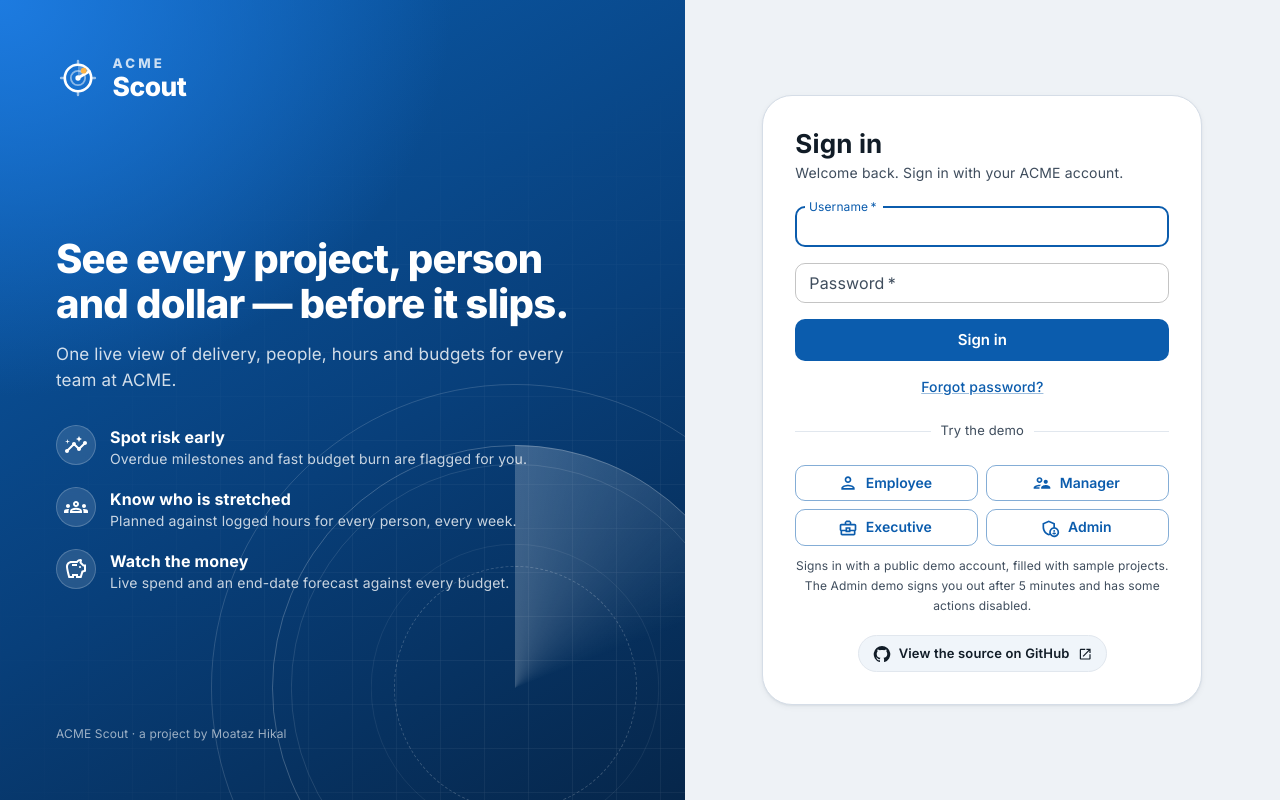
login › expired temp password message shown
The image size is (1280, 800).
Type "eli" into the field labelled "Username *" at {"x": 982, "y": 227}, box [795,207,1169,247]
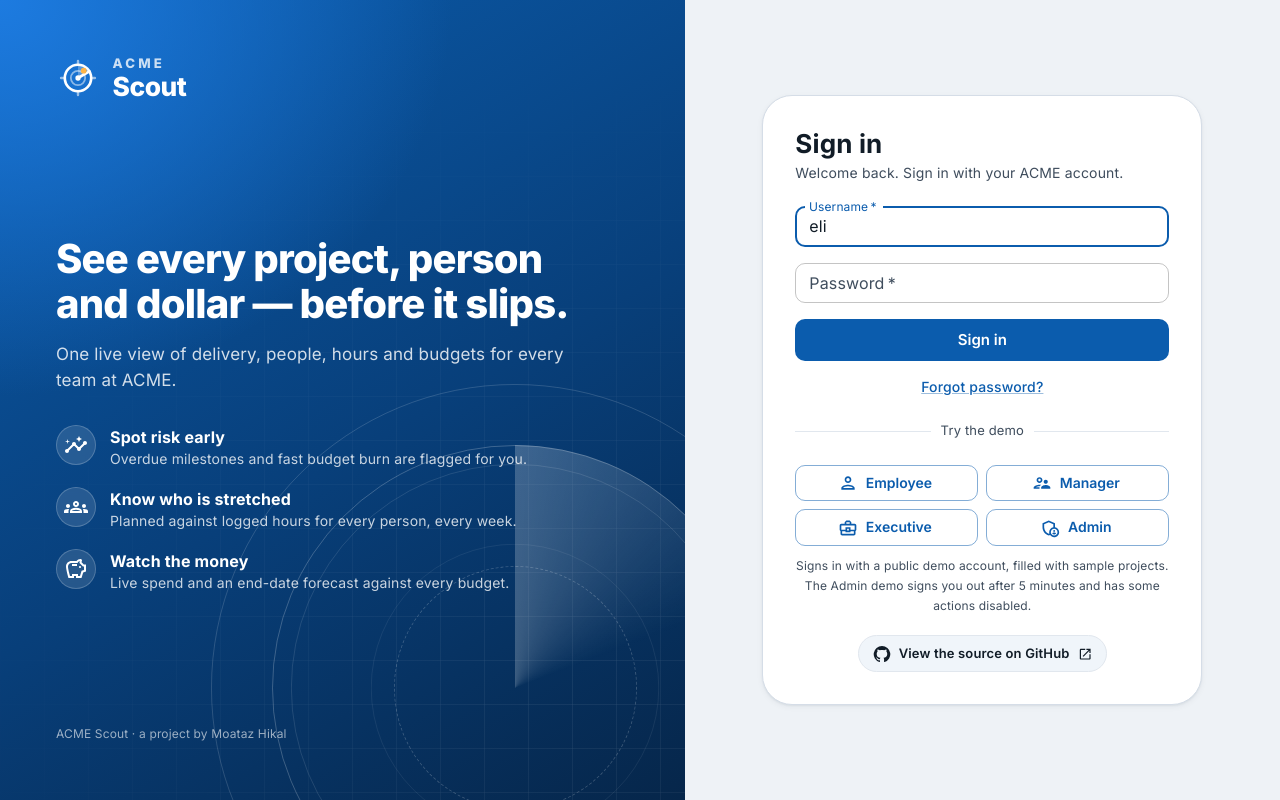
Type "Passw0rd!" into the password field labelled "Password *" at {"x": 982, "y": 283}, box [795,263,1169,303]
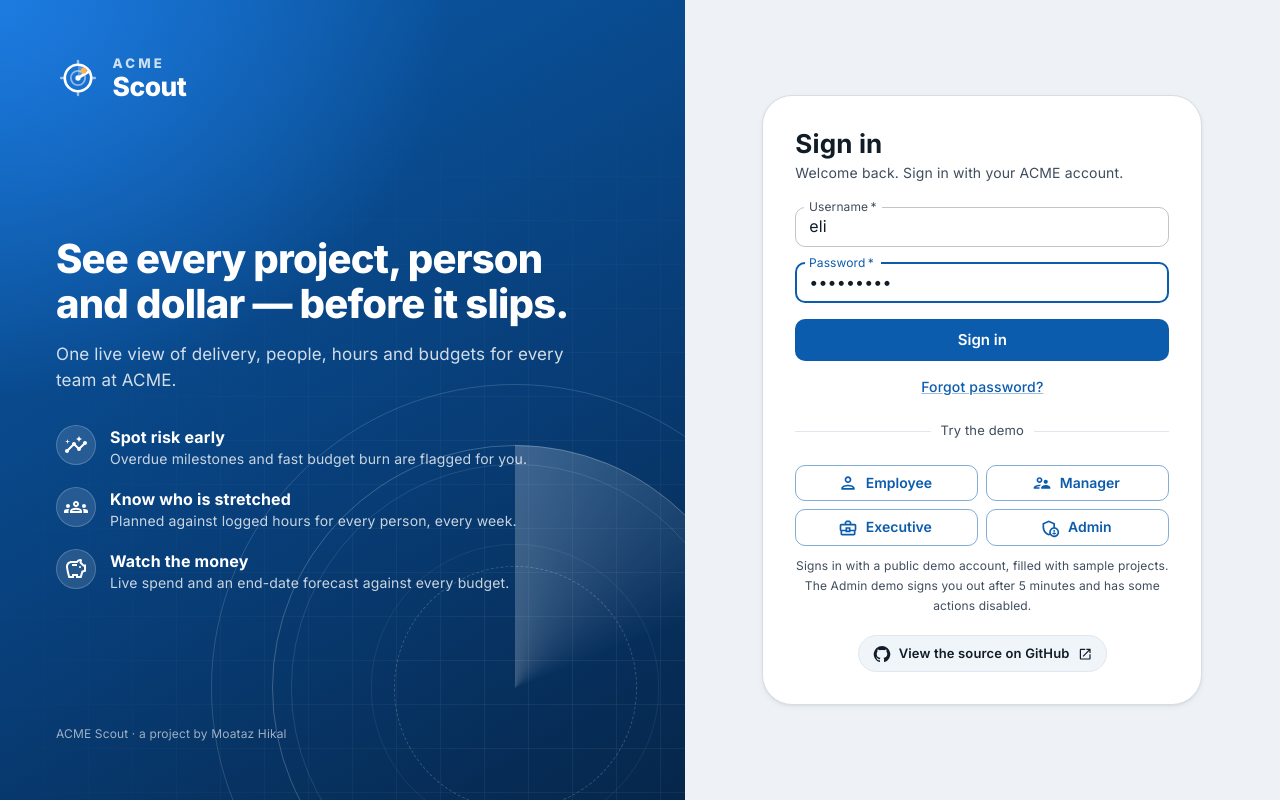
Click the button "Sign in" at {"x": 982, "y": 340}, box [795,319,1169,361]
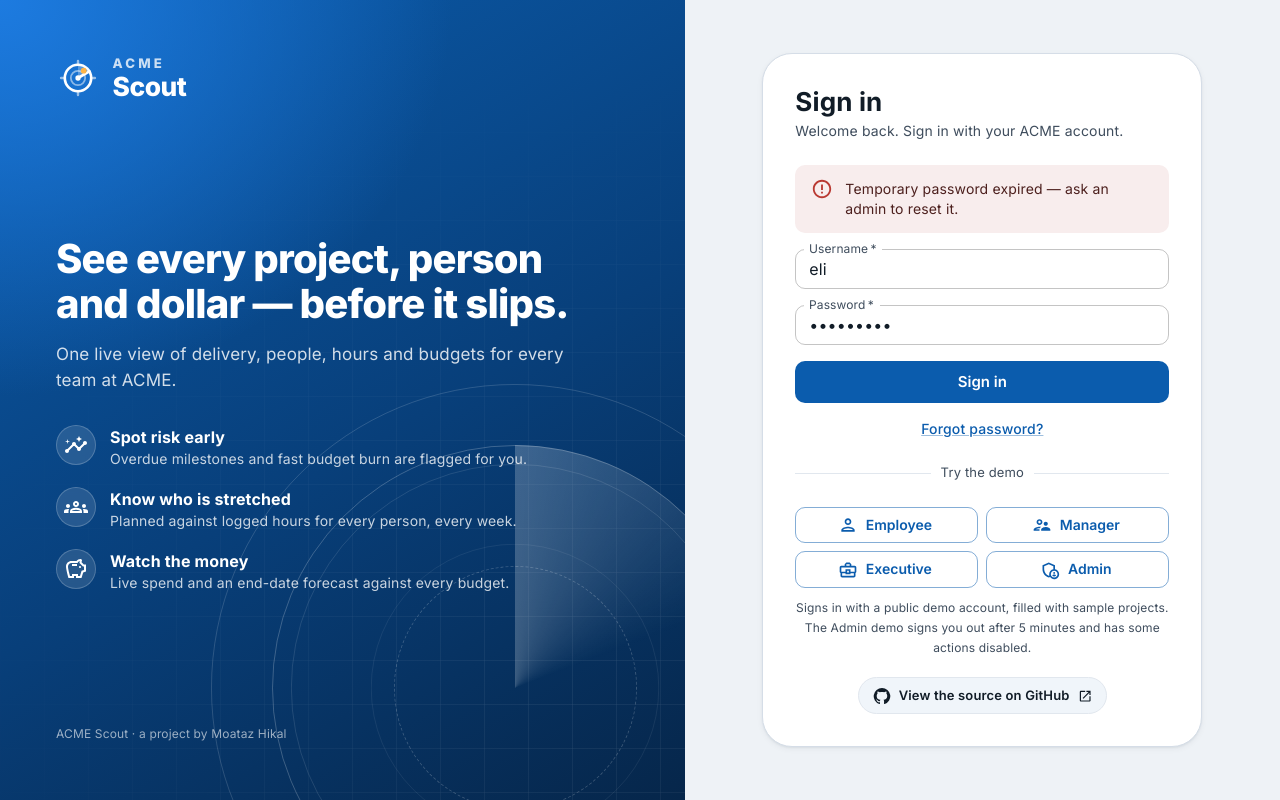
Now the message reads "Temporary password expired — ask an admin to reset it.", box [845,180,1109,217]
